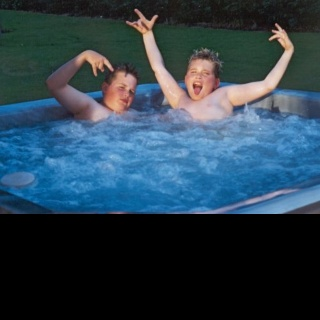without_mask: (183, 56, 220, 101), (100, 72, 138, 112)
